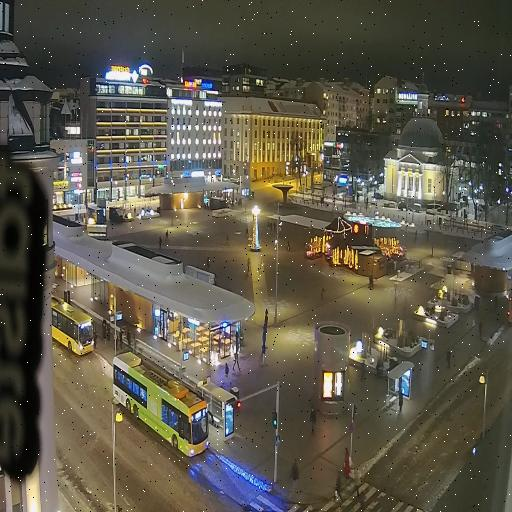Bus: (111, 351, 209, 458), (47, 297, 94, 357)
